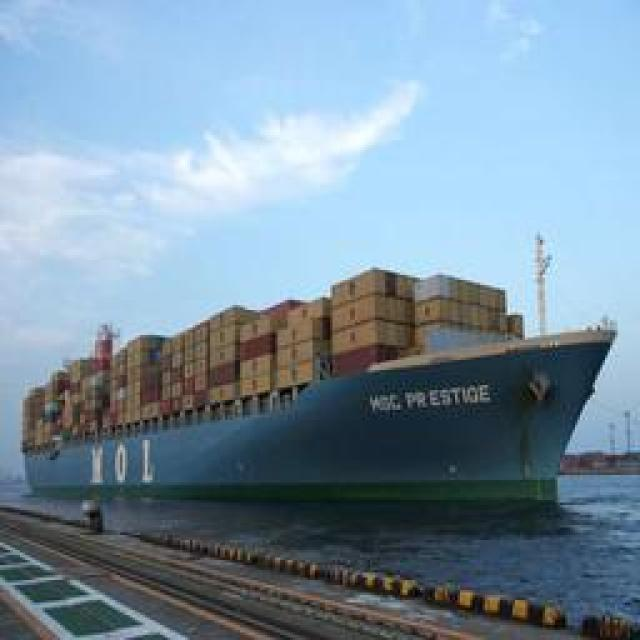CIV_Ship: (19, 310, 612, 512)
